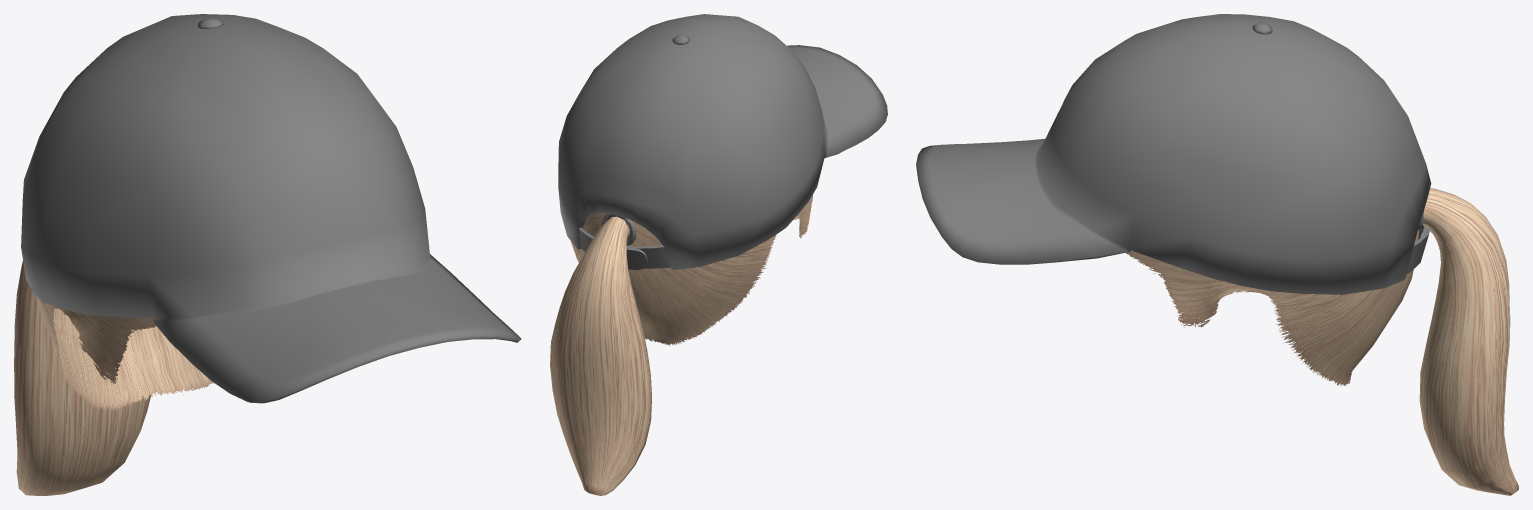
The model's file is BaseballHat_Hair_01.obj.
3 renders of one model, left to right at view 1: azimuth 30°, elevation 25°; view 2: azimuth 150°, elevation 25°; view 3: azimuth 270°, elevation 25°, orthographic. The views are drawn at different scales.
Size of the model in its own units: 17.01 by 28.1 by 32.21.
